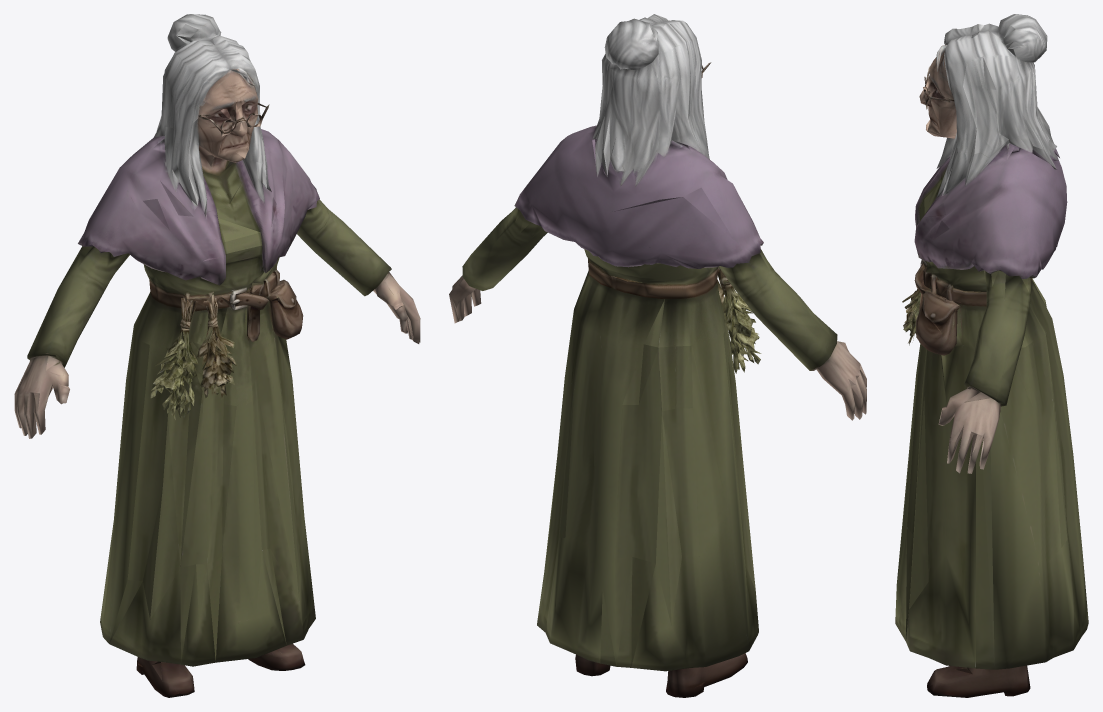
The model's file is MW_Herbalist.fbx.
3 views of the same model, side by side, from view 1: azimuth 30°, elevation 25°; view 2: azimuth 150°, elevation 25°; view 3: azimuth 270°, elevation 25° (orthographic). The views are drawn at different scales.
Parts seen in each view (by area): view 1: Mesh_0; view 2: Mesh_0; view 3: Mesh_0.
Boxes of the visible parts, box(x1,y1,x2,y2) form: Mesh_0: box(14, 14, 420, 697); Mesh_0: box(449, 14, 866, 697); Mesh_0: box(895, 14, 1088, 697).
Size of the model in its own units: 124 by 190 by 51.28.
Materials: 1 (1 with a texture image).
